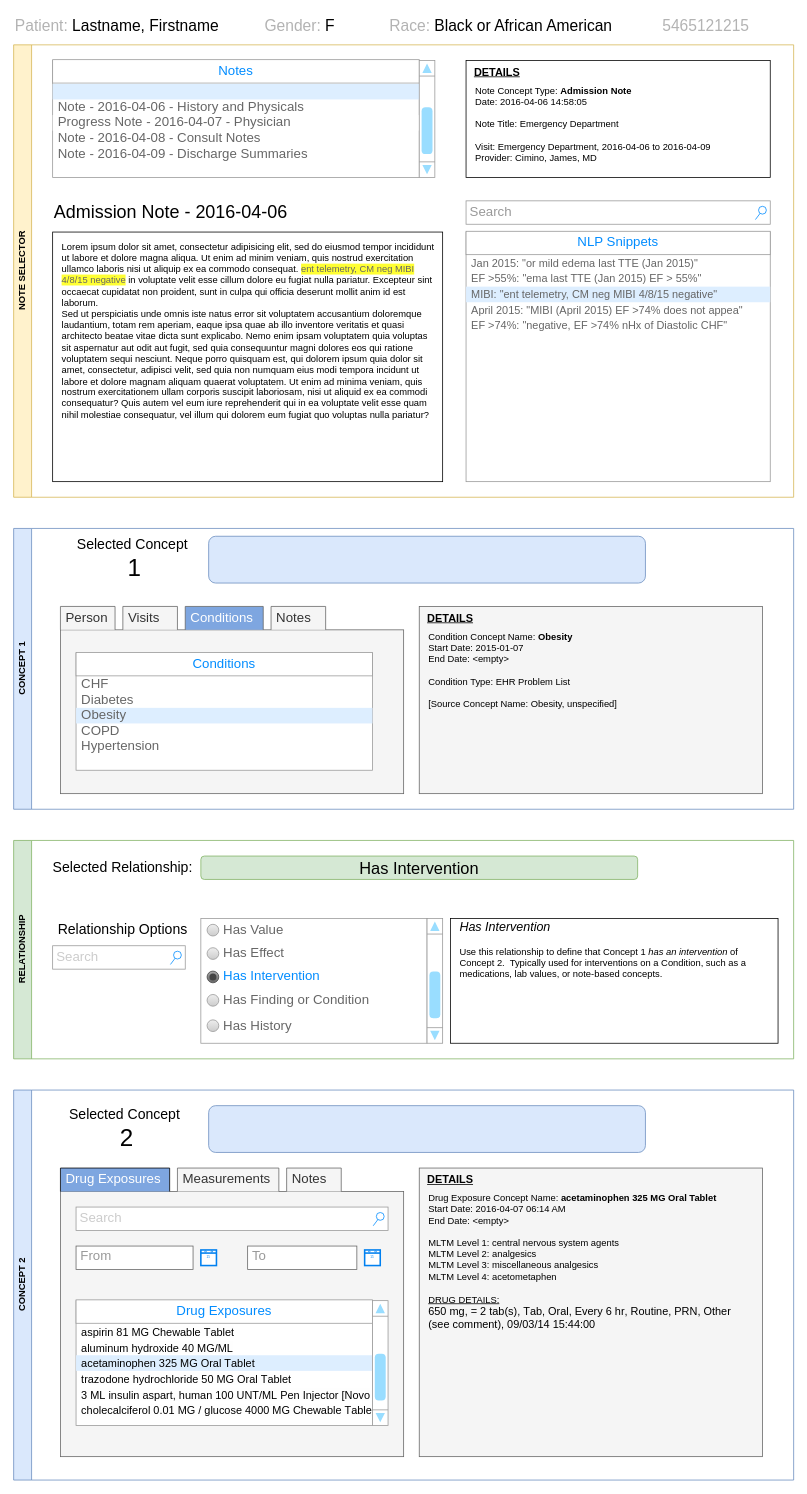
Some shapes in this 807 by 1494 pixel diagram are drawn without their labels. Each missing label, with the centre of its shape:
Admission Note - 2016-04-06 - Physician: the point at 235,91
Condition Occurrence Obesity: the point at 426,559
Drug Exposure acetaminophen 325 MG Oral Tablet: the point at 426,1128
